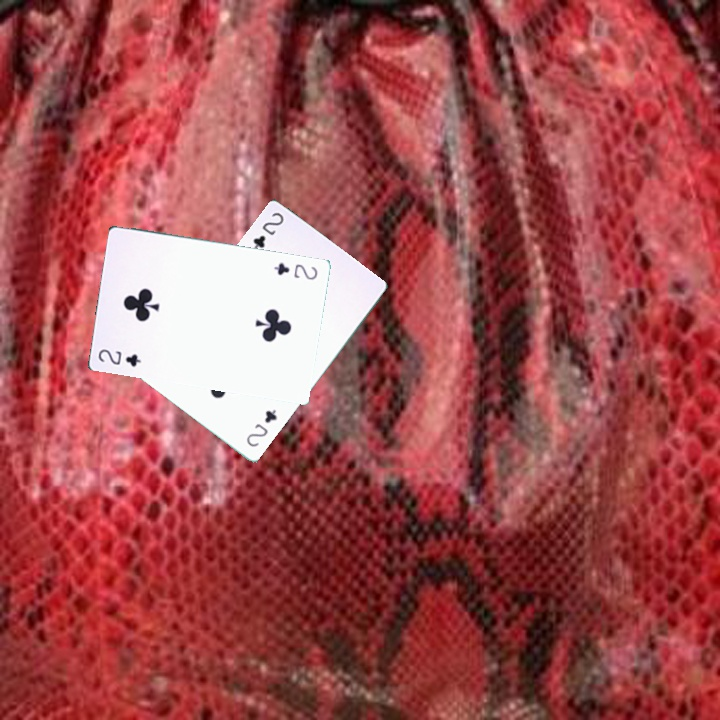2c: (242, 405, 280, 449), (249, 208, 286, 252), (94, 345, 143, 369), (270, 259, 320, 282)
